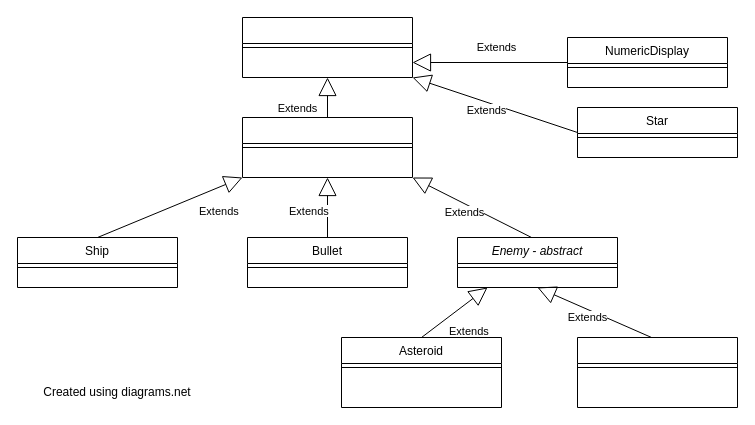
Image size: 755x425. Some labels were removed from this diagram. The shapes that lost their labels are listed below. From the top down, each one's box as (x1, y1, x2, y2) in pixels, then its label:
(242, 16, 412, 78): GameElement - abstract
(242, 116, 412, 178): AnimatedElement - abstract
(576, 336, 738, 408): Saucer
